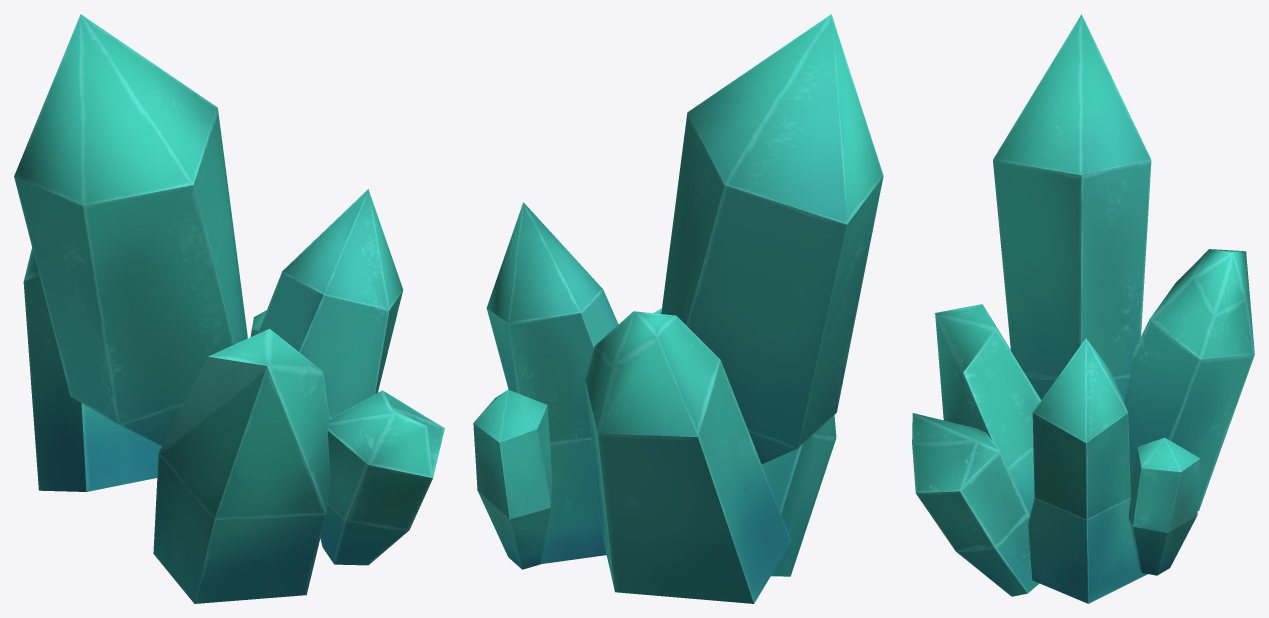
File: MidTierCrystalModel.fbx
The picture shows the model from 3 angles, left to right: view 1: azimuth 30°, elevation 25°; view 2: azimuth 150°, elevation 25°; view 3: azimuth 270°, elevation 25°; orthographic projection. The views are drawn at different scales.
Parts seen in each view (by area): view 1: pCylinder12; view 2: pCylinder12; view 3: pCylinder12.
Part boxes in pixels (x1,y1,x2,y2): pCylinder12: (14, 14, 444, 603); pCylinder12: (473, 14, 883, 603); pCylinder12: (912, 14, 1254, 603).
Size of the model in its own units: 3.22 by 4.9 by 3.14.
1 material, 1 textured.
